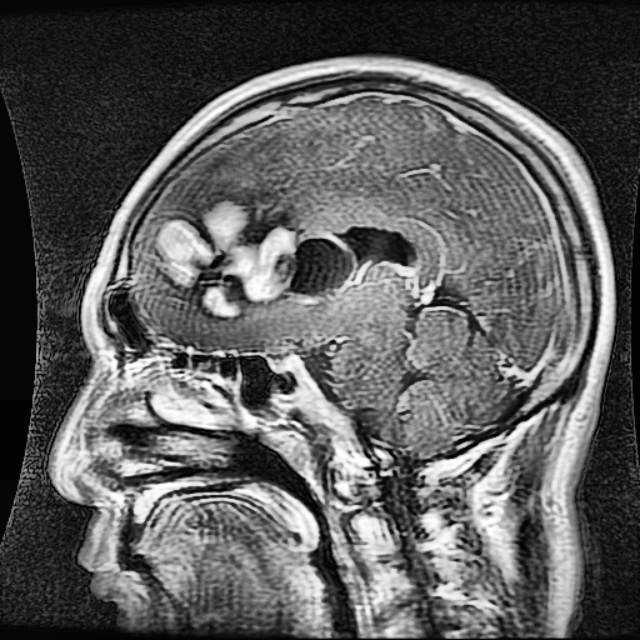Meningioma: (154, 204, 419, 318)
